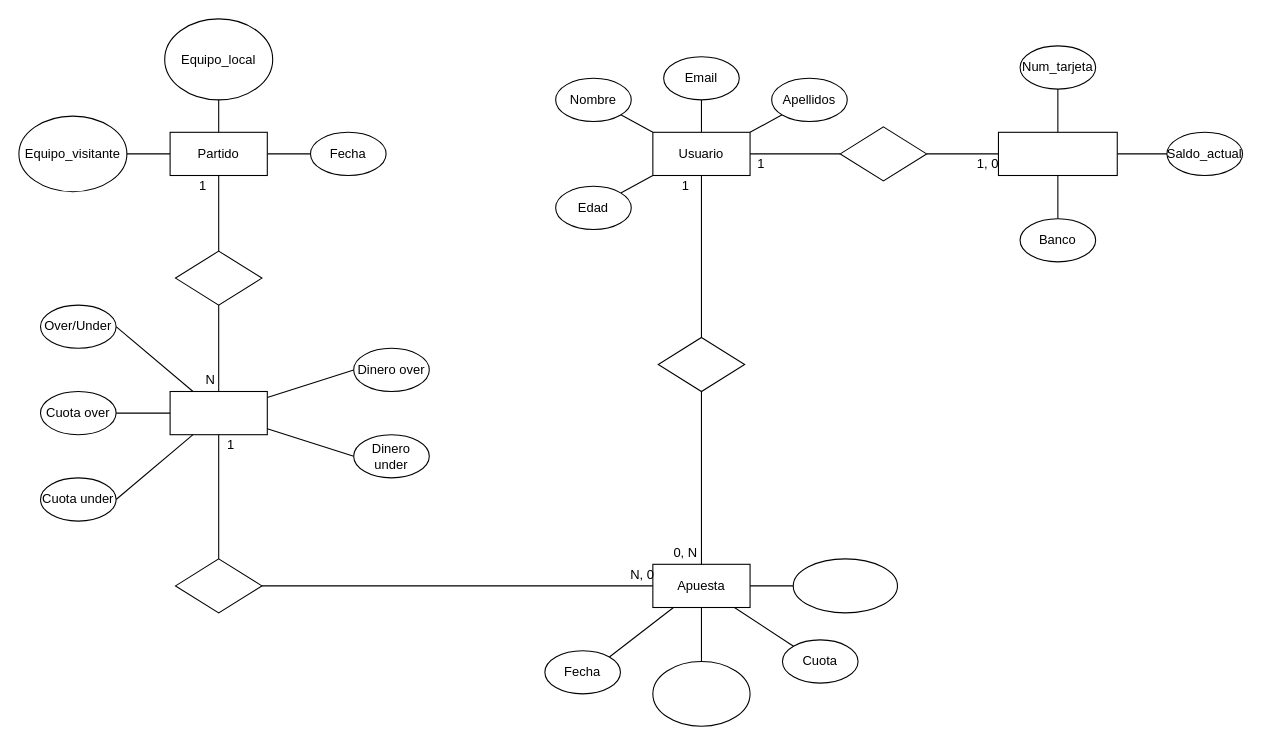
The diagram is 1261 pixels wide and 745 high, and some of its shapes have lost their labels. The centre of each missing label's shape, as x and y in pixels:
Cuenta_Bancaria: [1057,153]
Dinero_apuesta: [701,693]
Mercado: [218,412]
Pertenece: [218,277]
Posee: [883,153]
Realiza: [701,364]
Tiene: [218,585]
Tipo (over/under): [844,585]
